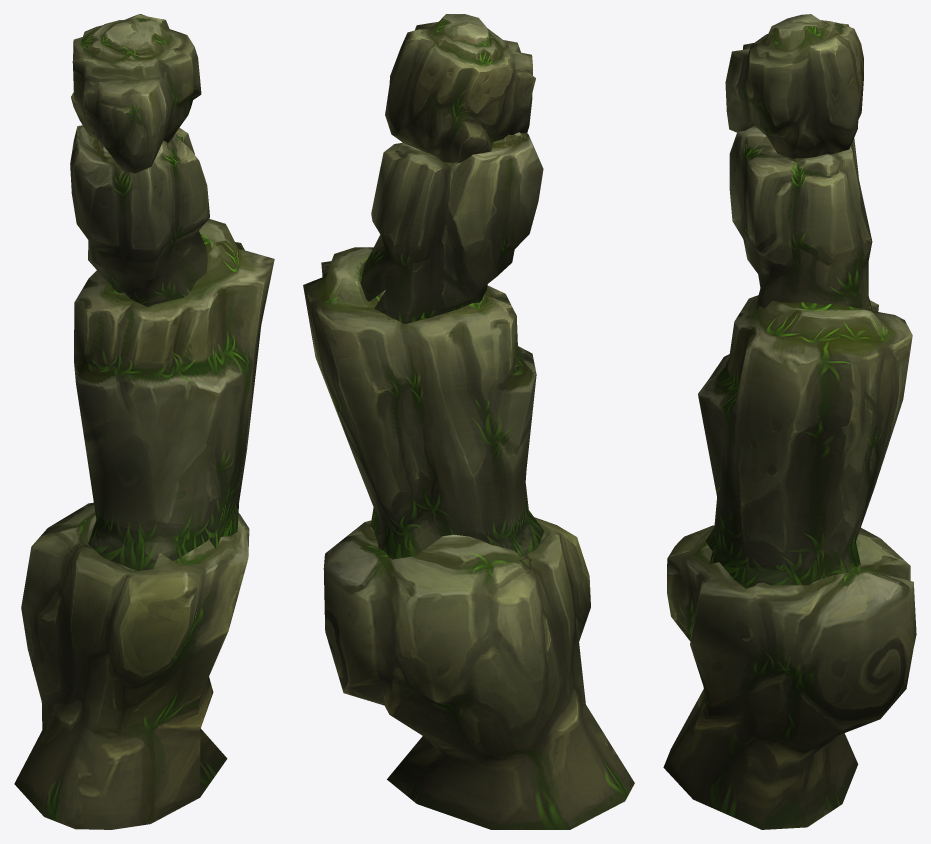
File: Rock_Formation_02_11.fbx
3 views of the same model, side by side, from view 1: azimuth 30°, elevation 25°; view 2: azimuth 150°, elevation 25°; view 3: azimuth 270°, elevation 25° (orthographic). The views are drawn at different scales.
Parts seen in each view (by area): view 1: Rock_Formation_02_11; view 2: Rock_Formation_02_11; view 3: Rock_Formation_02_11.
Part boxes in pixels (left/top/right/bottom): Rock_Formation_02_11: left=14, top=14, right=274, bottom=829; Rock_Formation_02_11: left=303, top=14, right=634, bottom=829; Rock_Formation_02_11: left=663, top=14, right=916, bottom=829.
Bounding box in the file's own units: 177 × 479 × 142.
